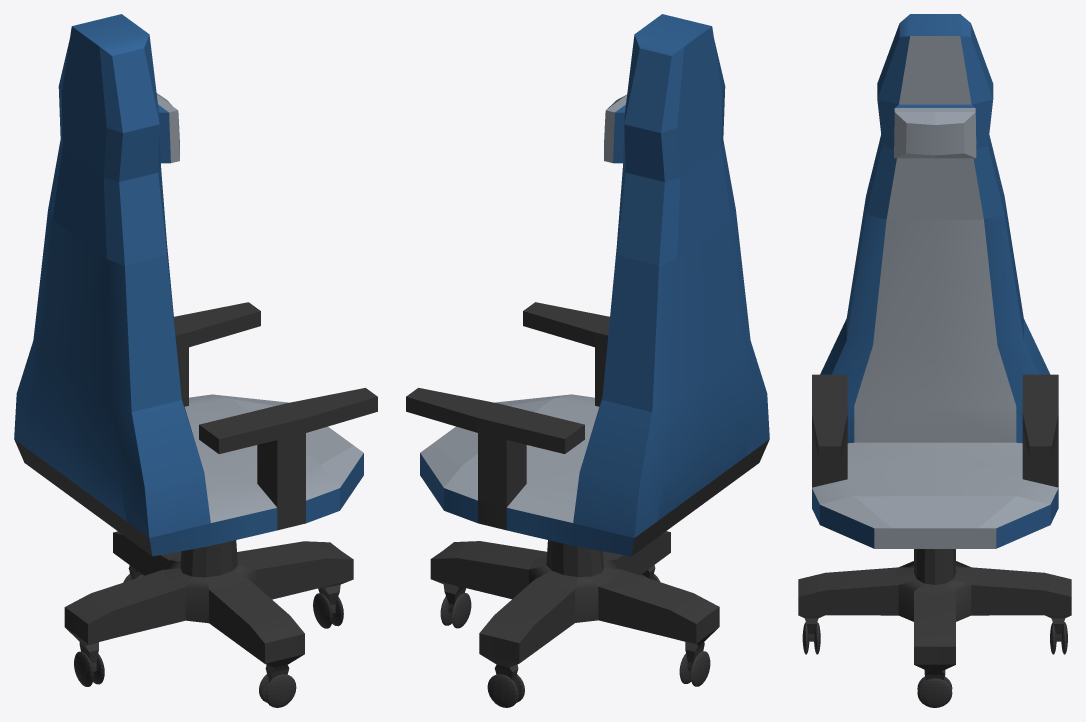
The model's file is Chair.fbx.
The picture shows the model from 3 angles, left to right: view 1: azimuth 30°, elevation 25°; view 2: azimuth 150°, elevation 25°; view 3: azimuth 270°, elevation 25°; orthographic projection. The views are drawn at different scales.
Visible parts, largest first — view 1: Chair; view 2: Chair; view 3: Chair.
Boxes of the visible parts, x1,y1,x2,y2 form: Chair: (14,14,377,707); Chair: (406,14,769,707); Chair: (798,14,1071,707).
Bounding box in the file's own units: 5.09 × 11.78 × 4.99.
